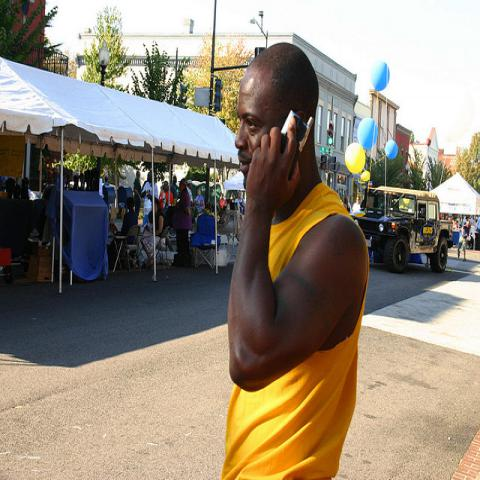truck: (352, 182, 457, 274)
